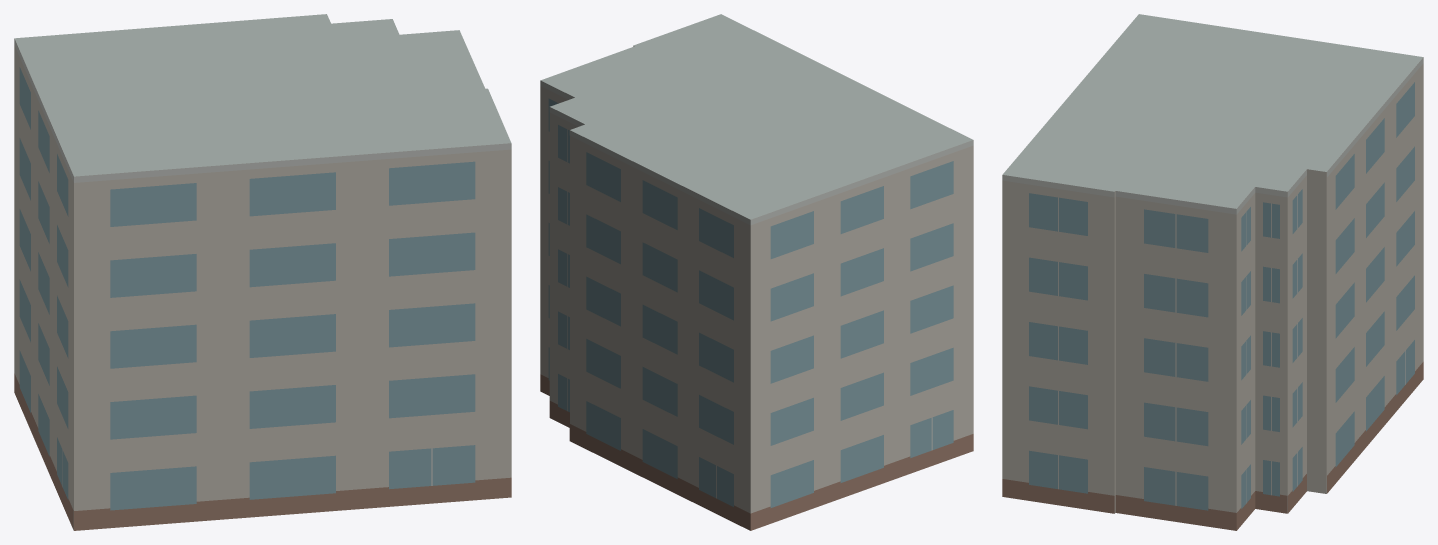
File: survey-upis-32890787.glb
3 renders of one model, left to right at view 1: azimuth 30°, elevation 25°; view 2: azimuth 150°, elevation 25°; view 3: azimuth 270°, elevation 25°, orthographic. The views are drawn at different scales.
Parts seen in each view (by area): view 1: survey-upis-32890787.tmp; view 2: survey-upis-32890787.tmp; view 3: survey-upis-32890787.tmp.
Boxes of the visible parts, left/top/right/bottom form: survey-upis-32890787.tmp: left=14, top=14, right=511, bottom=530; survey-upis-32890787.tmp: left=540, top=14, right=973, bottom=530; survey-upis-32890787.tmp: left=1002, top=14, right=1423, bottom=530.
Size of the model in its own units: 17.66 by 13.6 by 16.14.
